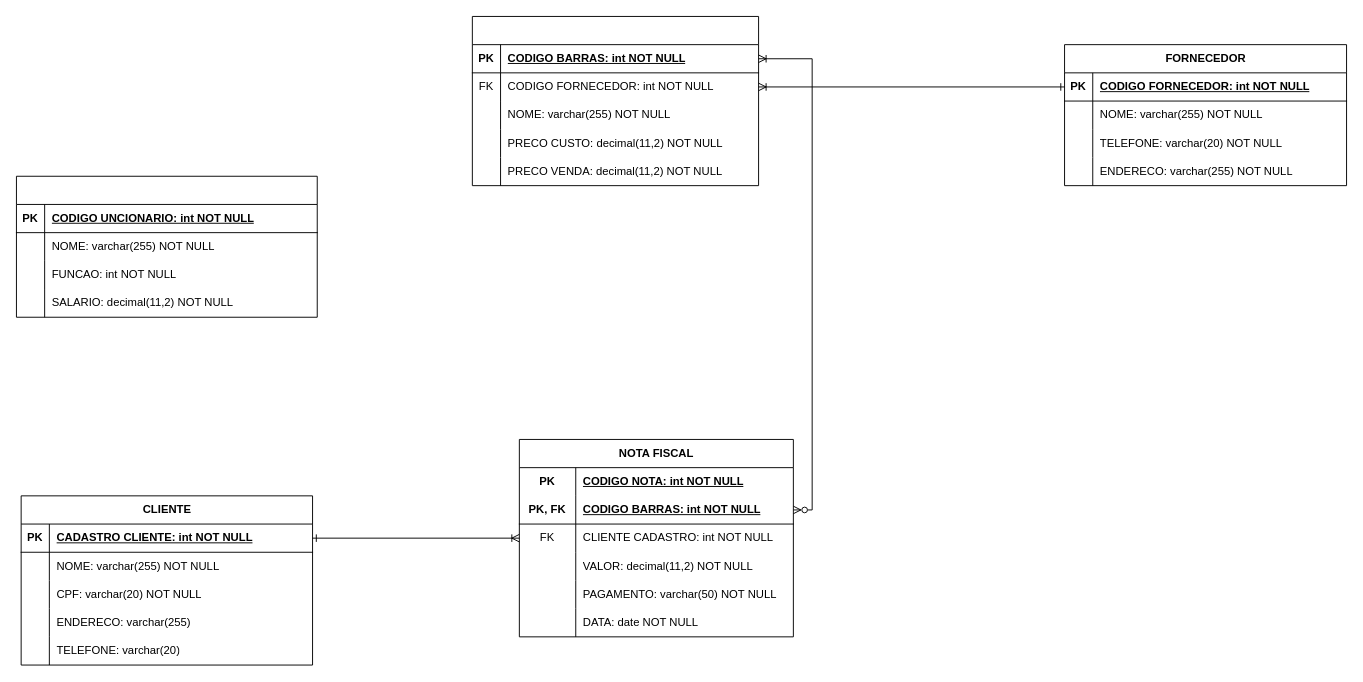
This 1363x682 diagram has some shape labels left out. Each missing label, with the box of its shape:
FUNCIONARIO: (16, 175, 317, 317)
PRODUTO: (471, 16, 759, 186)
